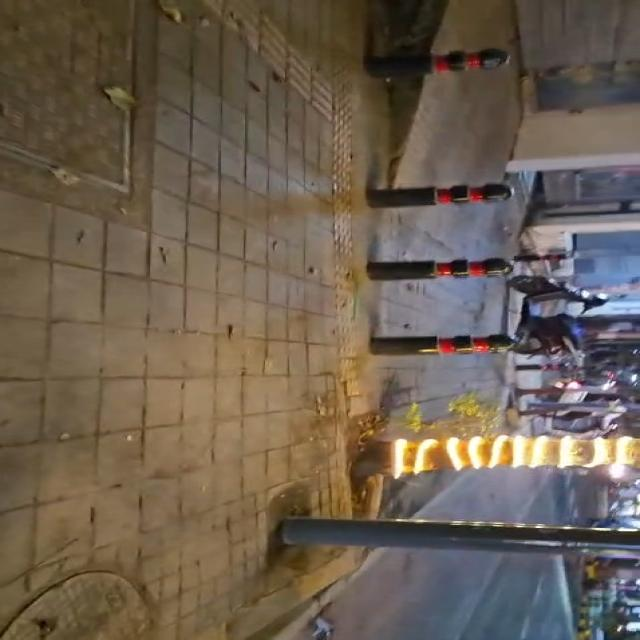obstacle: (280, 518, 639, 557), (365, 49, 508, 78), (366, 183, 512, 207), (367, 258, 511, 280), (370, 335, 514, 355), (528, 402, 639, 414), (516, 364, 581, 371)
vehicle: (0, 572, 149, 639), (513, 301, 583, 363), (509, 276, 609, 312)
